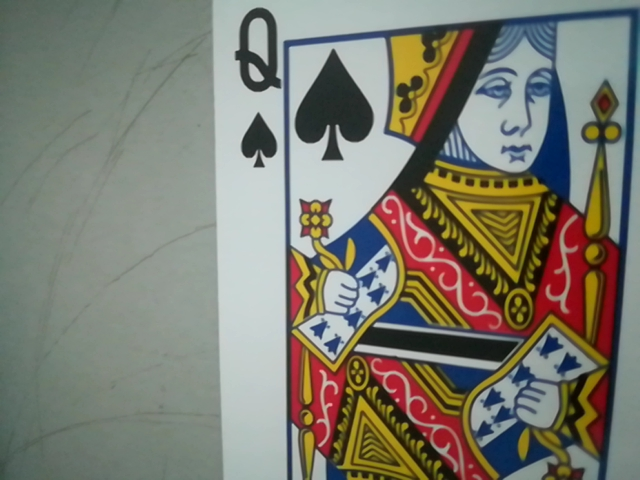ht q: (222, 1, 297, 167)
